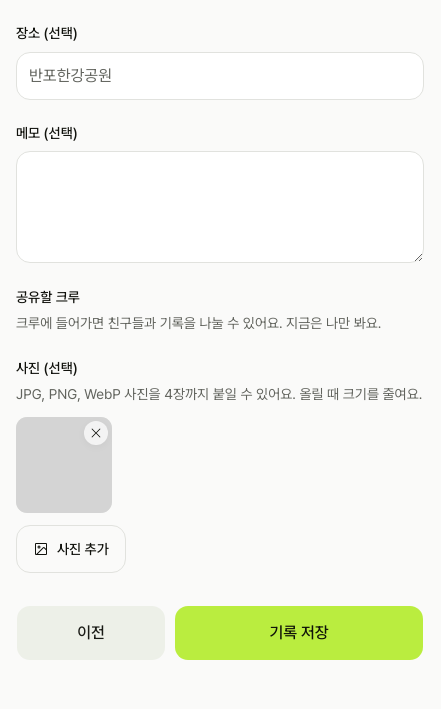
Test: WorkoutForm 사진 › 기록 저장이 실패하면 사진을 올리지 않고 고른 사진을 그대로 둔다
Earlier steps of the test are not shown.
(page scrolled)
Click the button "기록 저장".
click(299, 633)  # box [174, 605, 424, 661]
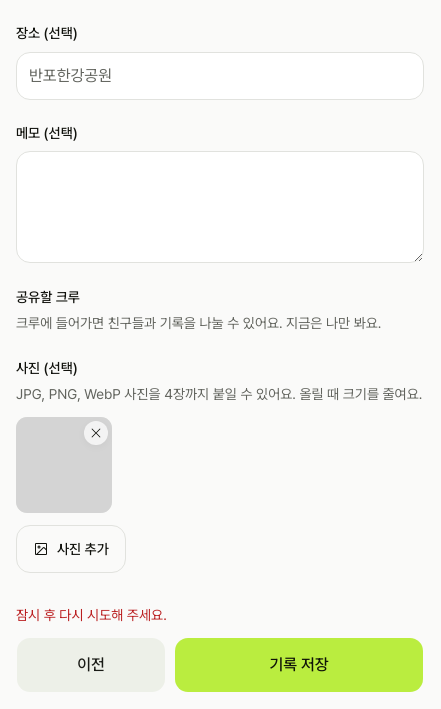
Check: the message reads "잠시 후 다시 시도해 주세요.", box [16, 607, 167, 623]
